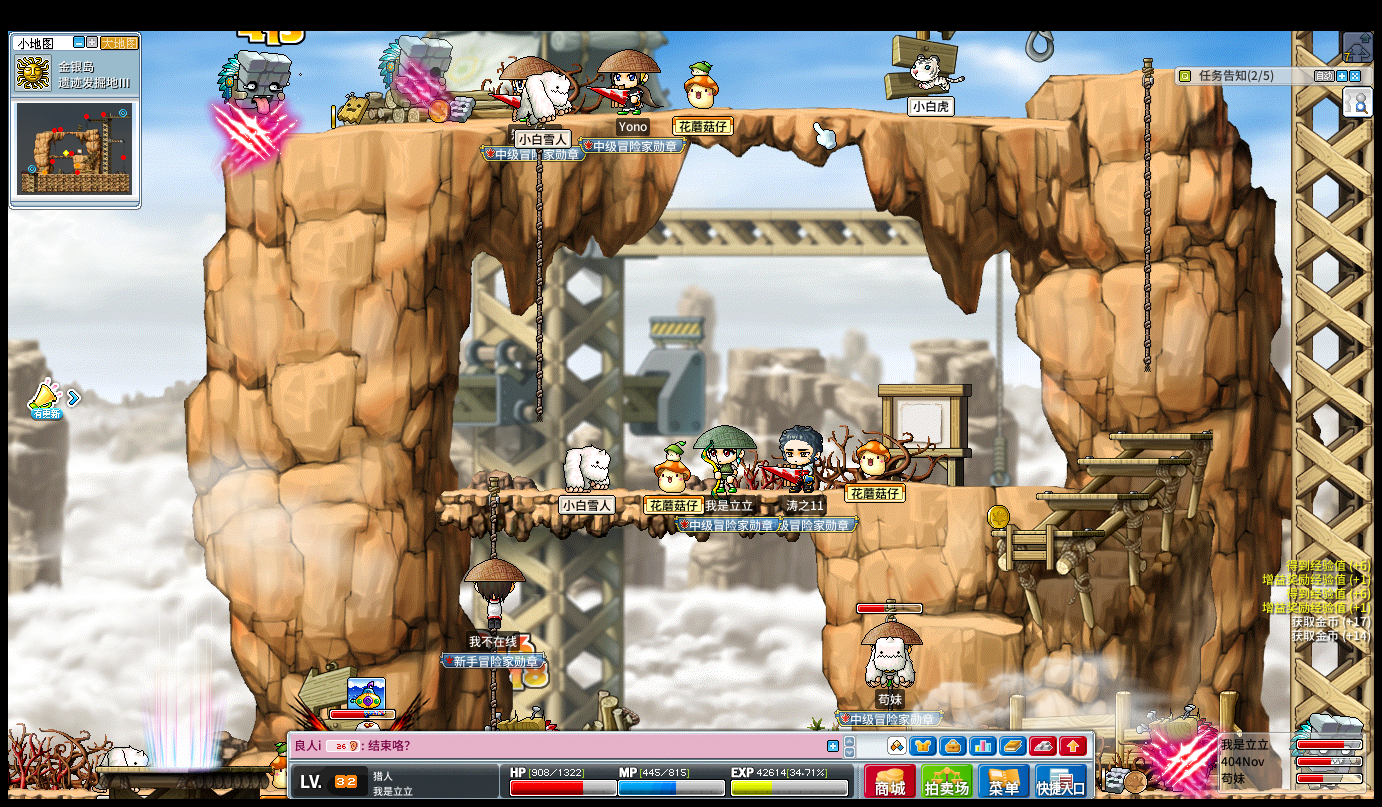floor: (223, 105, 1070, 142), (439, 488, 815, 499), (915, 613, 1023, 634), (1049, 65, 1167, 79), (1047, 68, 1171, 80), (1106, 429, 1213, 442), (915, 481, 1069, 490), (1070, 456, 1187, 465), (988, 528, 1106, 536), (1037, 492, 1148, 500)
monster: (218, 49, 293, 154), (377, 33, 452, 121), (1146, 710, 1214, 790)
rope: (1139, 55, 1154, 377), (534, 111, 545, 421), (484, 477, 499, 557), (486, 668, 495, 727)
